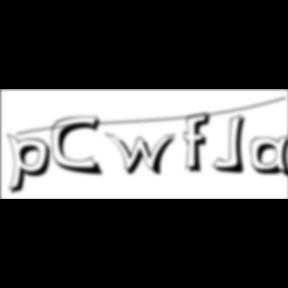C: (52, 115, 106, 178)
J: (214, 114, 252, 176)
f: (184, 111, 216, 175)
p: (7, 132, 57, 198)
w: (105, 132, 183, 178)
